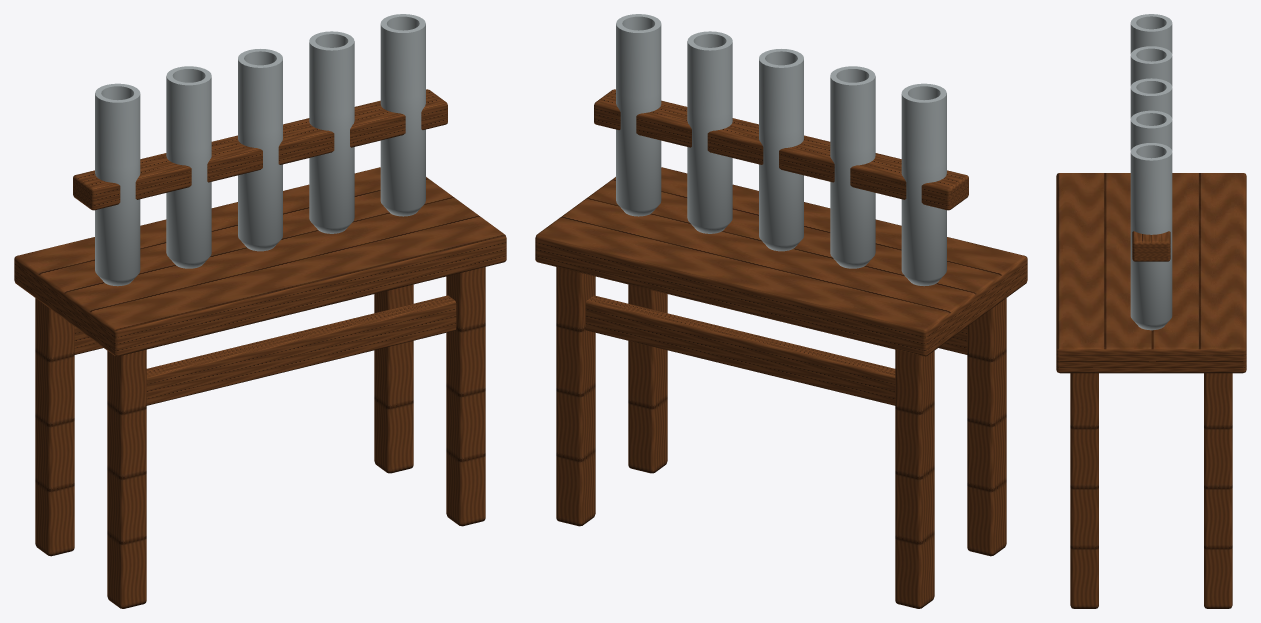
The model's file is prehistoric-expedition-sites-core-sample-rack-ff9b5bbf__26128.glb.
3 renders of one model, left to right at view 1: azimuth 30°, elevation 25°; view 2: azimuth 150°, elevation 25°; view 3: azimuth 270°, elevation 25°, orthographic. The views are drawn at different scales.
Visible parts, largest first — view 1: core-sample-rack; view 2: core-sample-rack; view 3: core-sample-rack.
Part boxes in pixels (bbox=[...]): core-sample-rack: bbox=[14, 14, 506, 608]; core-sample-rack: bbox=[535, 14, 1027, 608]; core-sample-rack: bbox=[1056, 14, 1246, 608].
Size of the model in its own units: 1.1 by 1.28 by 0.5.
2 materials, 1 textured.
